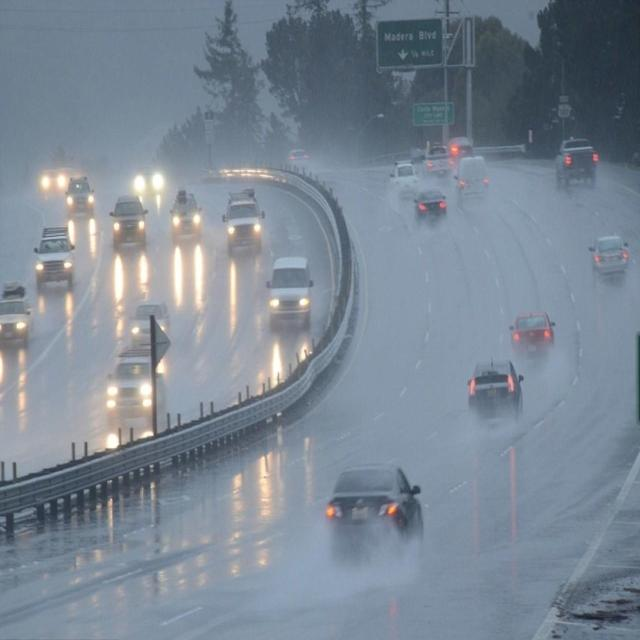Car: (324, 459, 426, 558), (465, 357, 528, 416), (105, 364, 172, 418), (221, 189, 267, 256), (33, 225, 76, 289), (588, 231, 632, 283), (555, 138, 600, 187), (130, 300, 173, 350), (510, 311, 554, 356), (110, 198, 148, 249), (168, 186, 202, 241), (0, 282, 29, 344), (415, 187, 449, 226), (66, 178, 96, 219), (130, 170, 166, 197)
Van: (266, 258, 314, 333), (454, 157, 489, 211)
